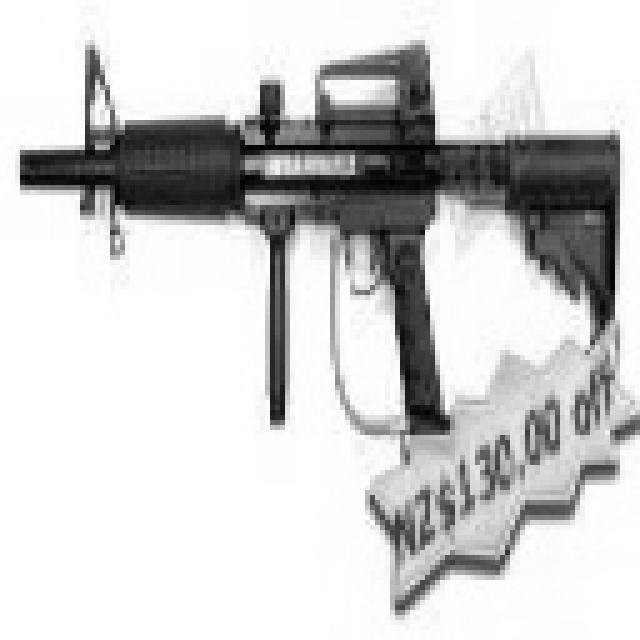Rifle: (6, 24, 640, 463)
